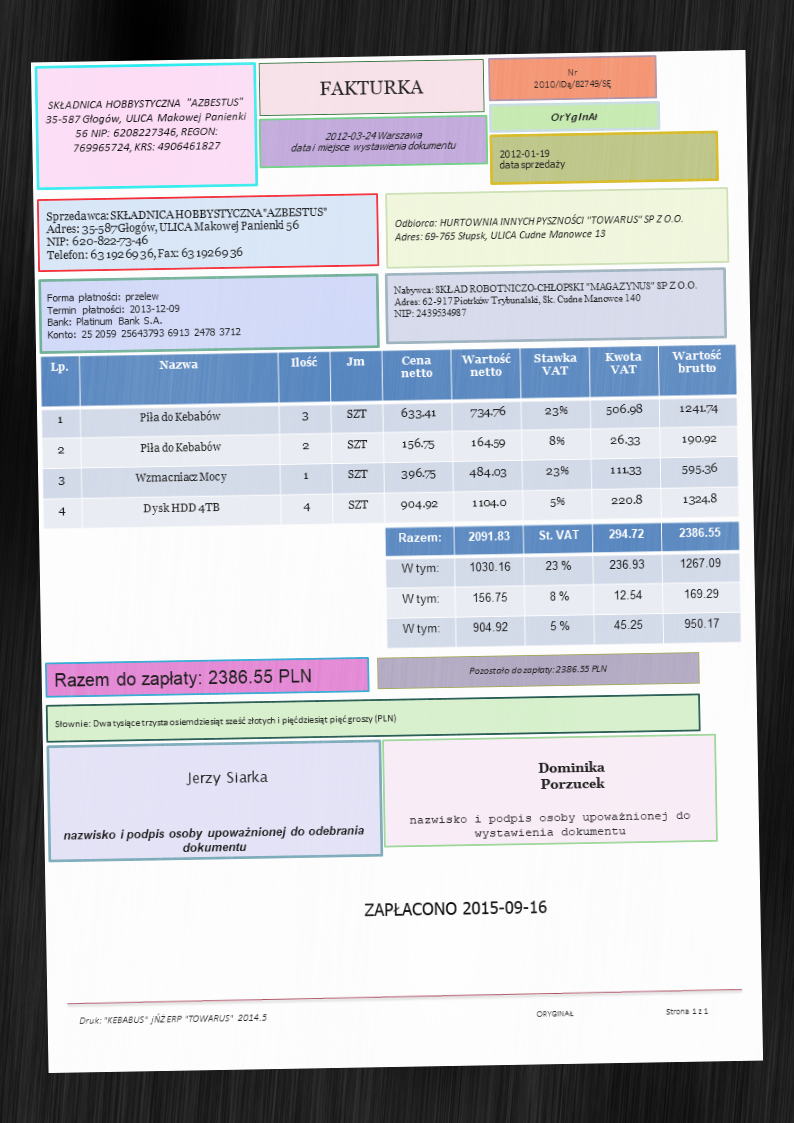Table: (39, 342, 741, 530), (383, 518, 742, 650)
TextBox: (42, 201, 332, 266), (390, 276, 700, 321), (41, 93, 250, 157), (44, 286, 245, 344), (61, 823, 368, 857), (406, 806, 694, 842), (392, 210, 686, 245), (52, 710, 400, 733), (52, 664, 313, 690), (287, 126, 459, 156), (361, 896, 552, 919), (77, 1009, 271, 1028), (533, 1003, 712, 1021), (535, 756, 610, 794), (466, 661, 610, 679), (317, 75, 424, 99), (530, 64, 614, 92), (181, 766, 271, 790), (497, 144, 567, 173), (547, 107, 600, 125)
